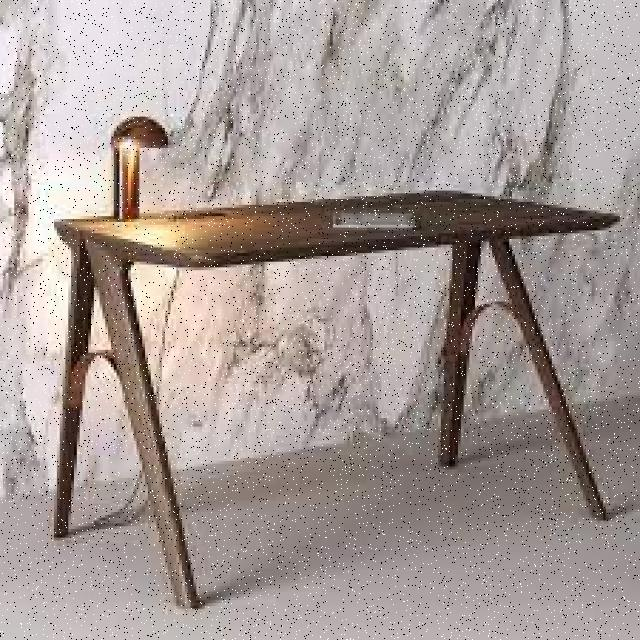mobile-phone: (41, 113, 630, 608)
